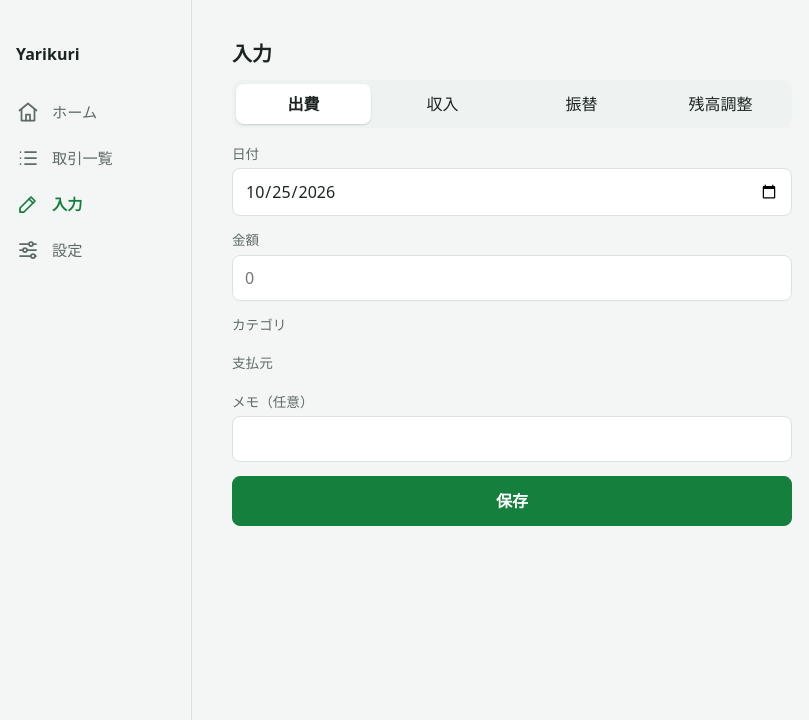
Test: 入力エラー › 金額「」は保存されない
What coordinates should you click on to do the following:
click the button "保存"
I would click on:
 (512, 501)
Its box is [232,476,792,526].
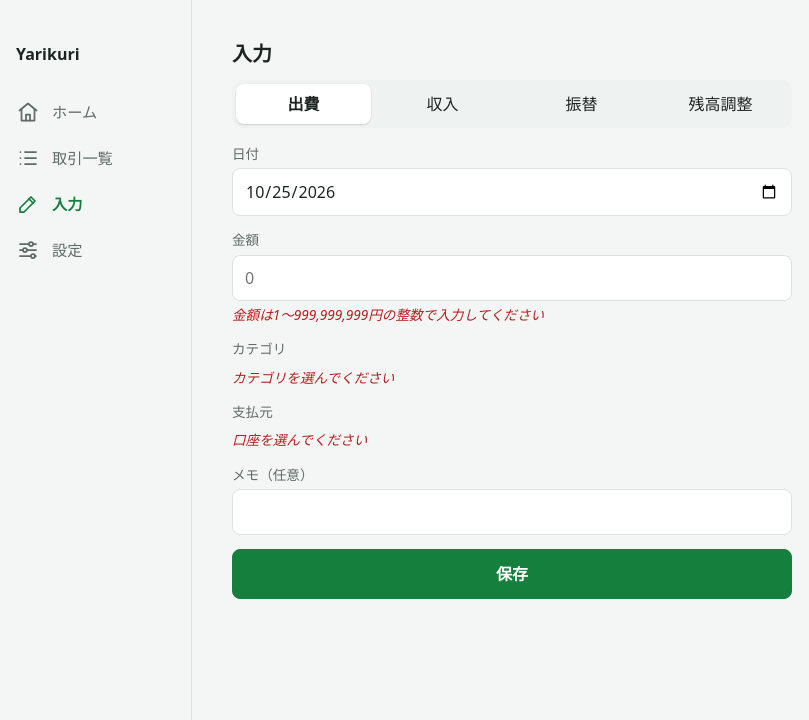
Expected: the message shows "金額は1〜999,999,999円", [232,305,544,324]
